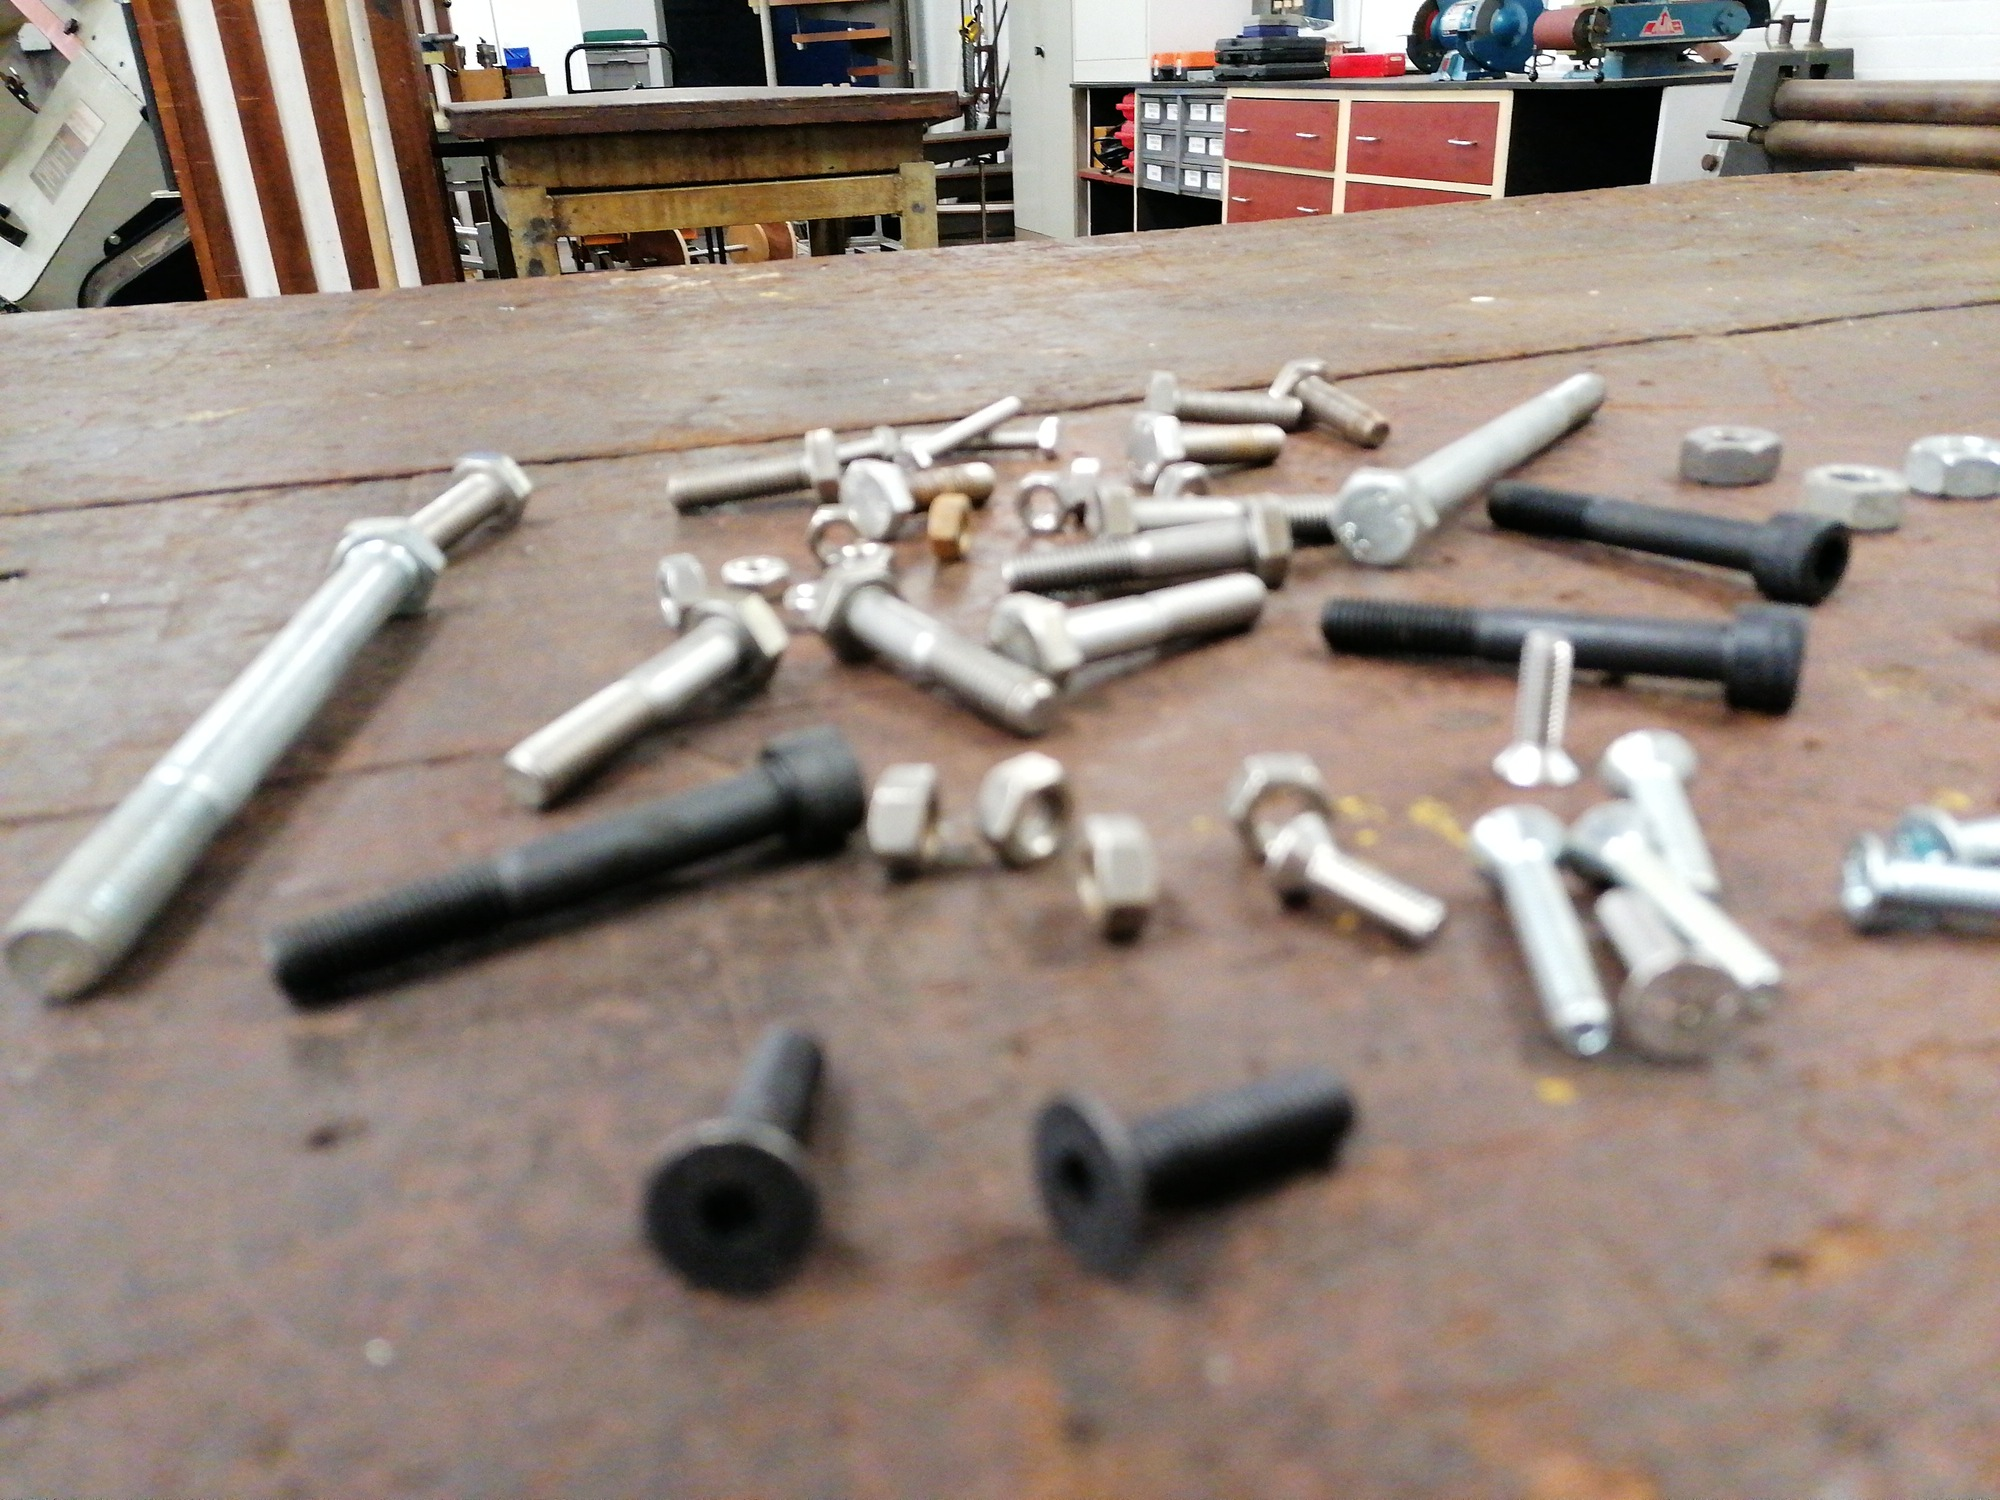bolt: (3, 514, 450, 1001), (261, 722, 865, 1008), (1031, 1064, 1354, 1278), (498, 588, 786, 811), (1320, 596, 1806, 715), (1326, 370, 1606, 567), (638, 1026, 824, 1300), (1567, 799, 1784, 1027), (1487, 481, 1849, 607), (816, 562, 1058, 736), (1468, 802, 1616, 1057), (987, 570, 1268, 692), (1002, 490, 1294, 592), (1592, 886, 1743, 1064), (1265, 808, 1450, 950), (1598, 726, 1721, 893), (1836, 830, 1998, 937), (665, 427, 839, 514), (1491, 626, 1583, 786), (838, 457, 995, 540), (1121, 410, 1287, 484), (409, 447, 532, 547), (1268, 356, 1391, 449), (1143, 369, 1302, 433), (891, 394, 1024, 471), (899, 414, 1065, 459), (1891, 805, 1998, 862), (835, 422, 894, 466)
nut: (1222, 750, 1335, 859), (973, 750, 1072, 867), (1074, 811, 1157, 941), (865, 759, 946, 879), (1802, 462, 1910, 533), (1679, 422, 1783, 485), (1906, 432, 1998, 499), (654, 550, 706, 632), (1013, 470, 1069, 537), (805, 503, 863, 566), (926, 492, 976, 561), (1082, 481, 1139, 540), (720, 555, 789, 600), (1065, 455, 1106, 518), (781, 578, 824, 632), (1153, 460, 1214, 496)
